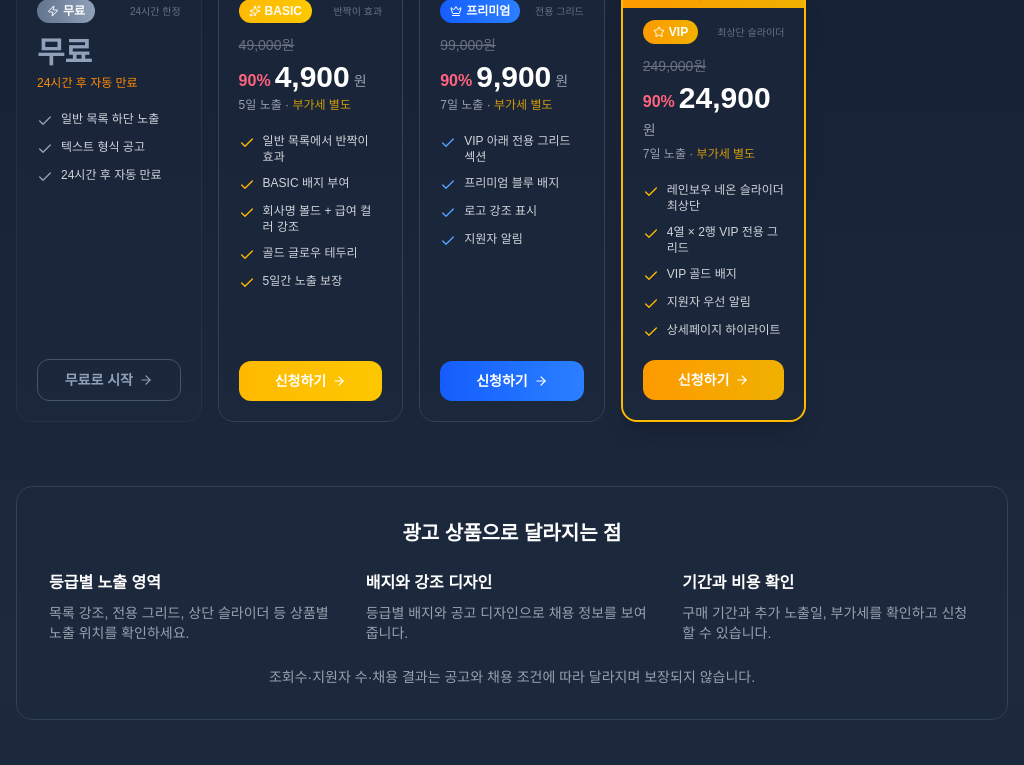
it: real advertisement target selection › does not offer an active job without explicit approval (false)
The image size is (1024, 765).
(page scrolled)
Click the button "신청하기" below "5일간 노출 보장": (310, 381) 239,361 -> 382,401
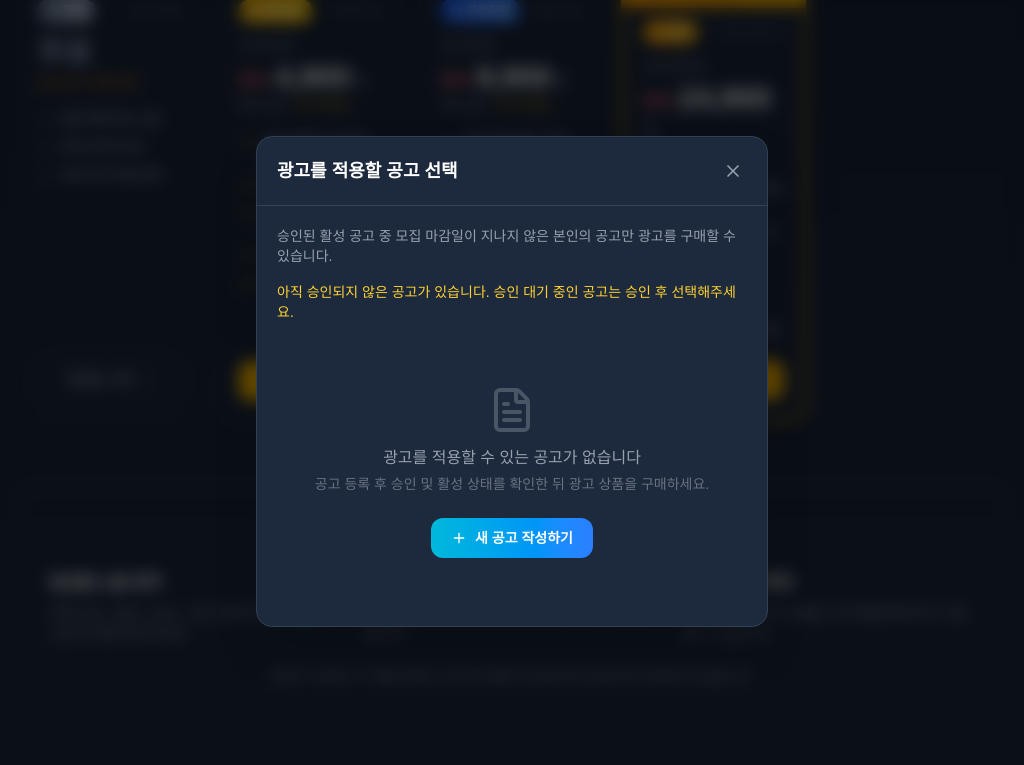
Check: the text "광고를 적용할 수 있는 공고가 없습니다" is shown, box 383,446 -> 641,470
Check: the message shows "승인 대기 중인 공고는 승인 후 선택", box 277,284 -> 736,320
